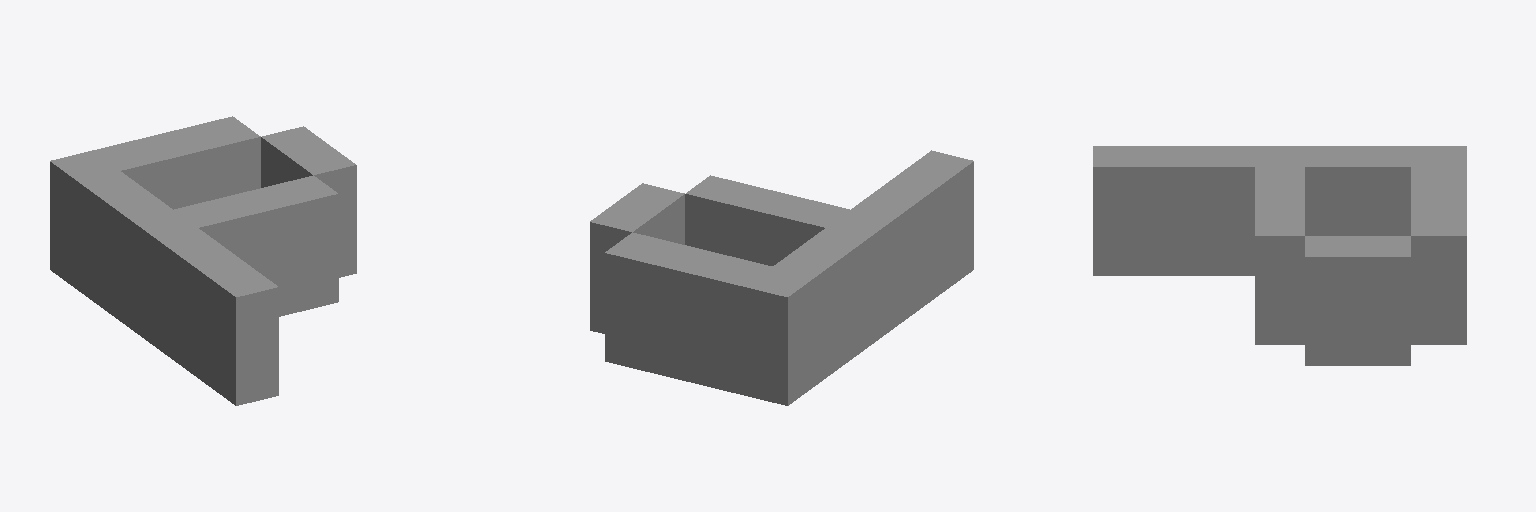
The picture shows the model from 3 angles: view 1: azimuth 30°, elevation 25°; view 2: azimuth 150°, elevation 25°; view 3: azimuth 270°, elevation 25°; orthographic projection.
Parts seen in each view (by area): view 1: P_CUABC.016; view 2: P_CUABC.016; view 3: P_CUABC.016.
Boxes of the visible parts, <box> form: P_CUABC.016: <box>50,116,356,405</box>; P_CUABC.016: <box>590,150,973,405</box>; P_CUABC.016: <box>1093,146,1466,365</box>.
Bounding box in the file's own units: 0.5444 × 0.25 × 0.7778.